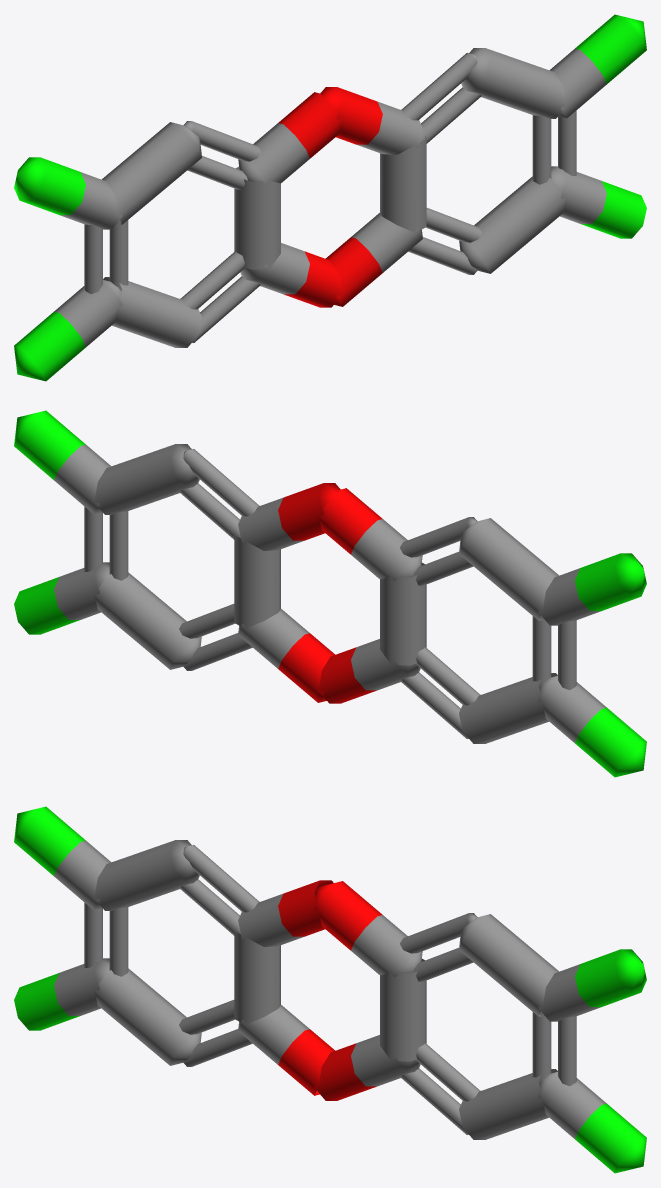
The model's file is dioxin.glb.
3 renders of one model, top to bottom at view 1: azimuth 30°, elevation 25°; view 2: azimuth 150°, elevation 25°; view 3: azimuth 330°, elevation 25°, orthographic.
Visible parts, largest first — view 1: node-geom12; view 2: node-geom12; view 3: node-geom12.
Part boxes in pixels (bbox=[...]): node-geom12: bbox=[14, 14, 646, 381]; node-geom12: bbox=[14, 410, 646, 777]; node-geom12: bbox=[14, 806, 646, 1173].
Bounding box in the file's own units: 7.45 × 2.55 × 0.5.
